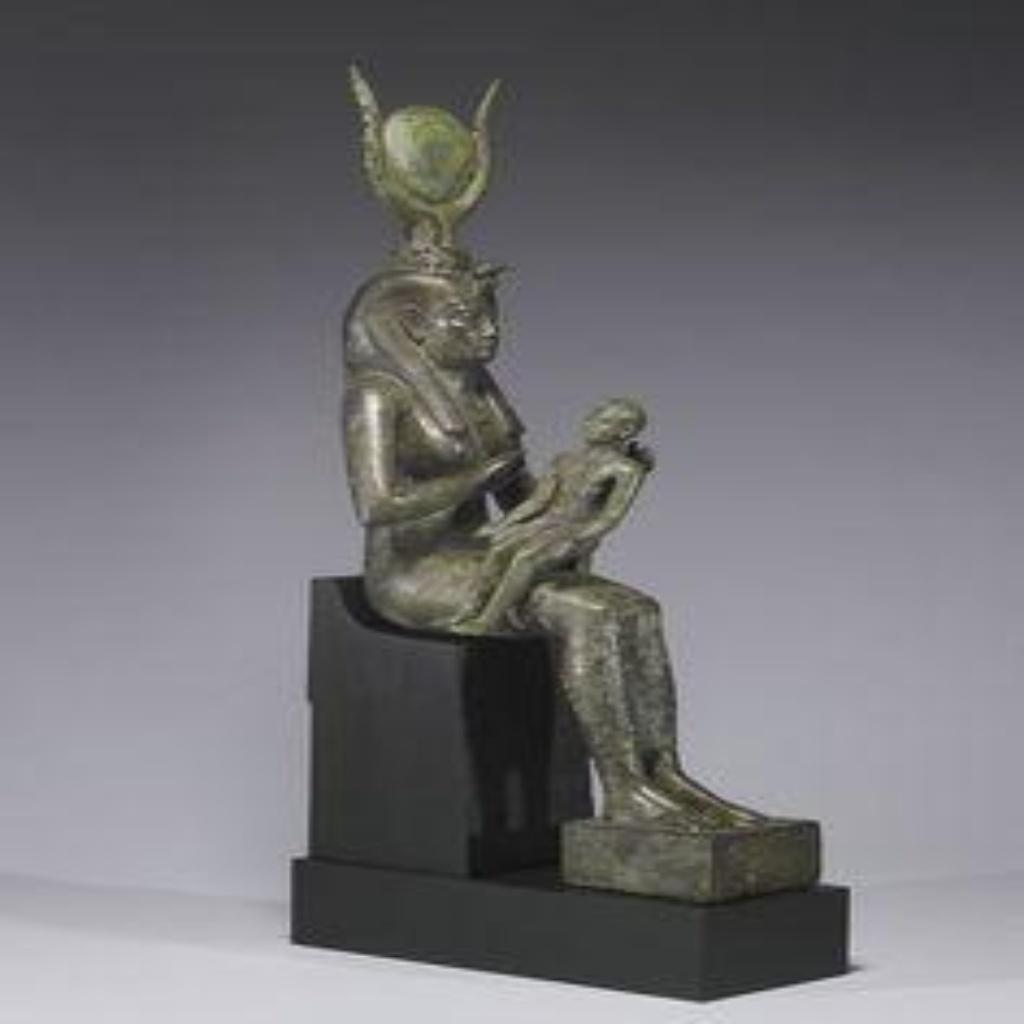Isis with her child: (300, 50, 838, 906)
